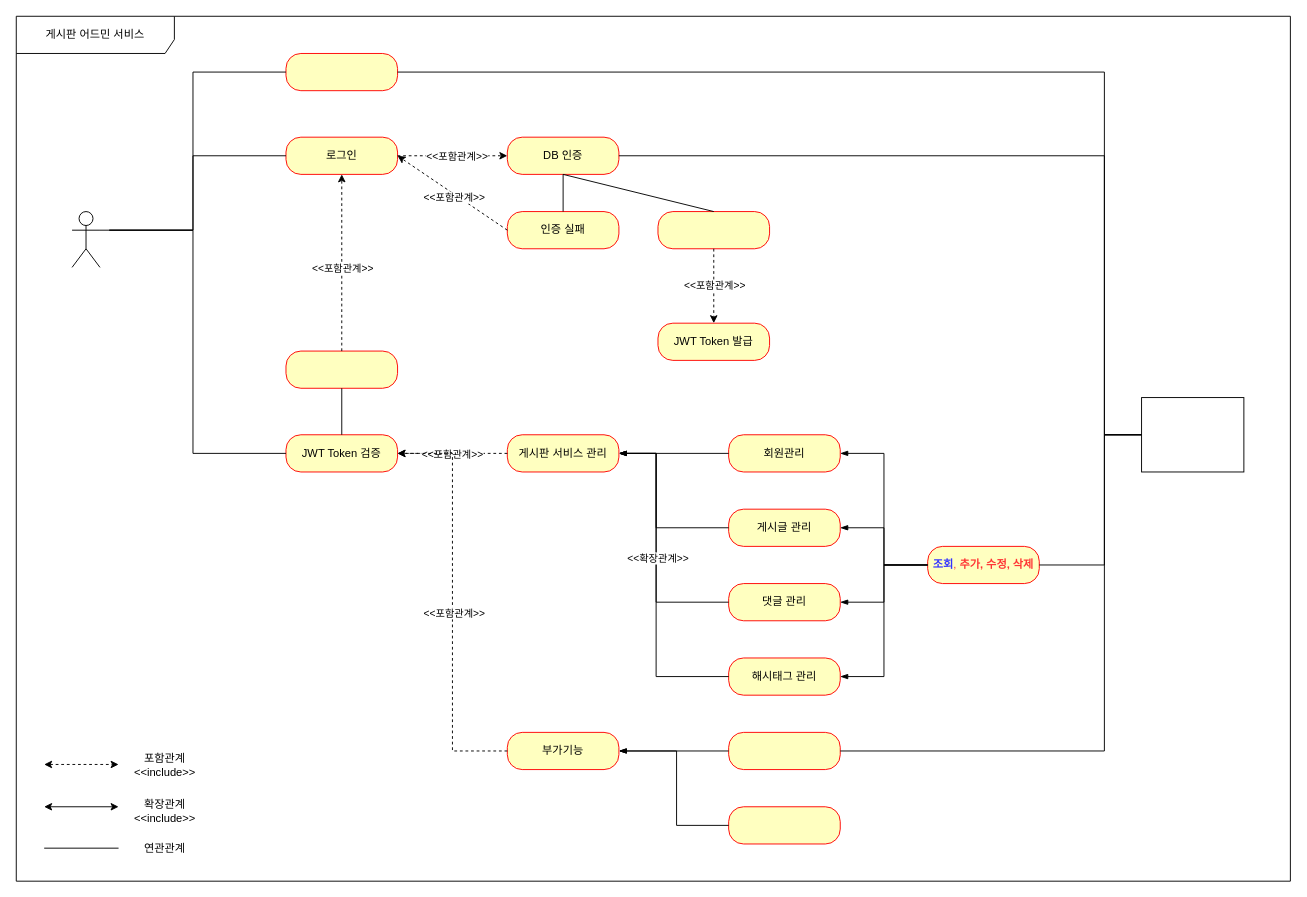
Image size: 1307x897. Some labels were removed from this diagram. Each missing label, with the box of its shape:
Chat: (728, 806, 840, 844)
DataBase: (1141, 397, 1244, 472)
ToDo List: (728, 731, 840, 770)
관리자 ( ROLE_MASTER , ROLE_MANAGER ): (71, 211, 100, 267)
관리자 계정 추가: (285, 53, 398, 91)
성공: (657, 211, 770, 249)
실패: (285, 350, 398, 388)
